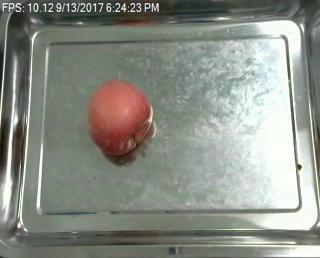apple: (86, 80, 154, 156)
